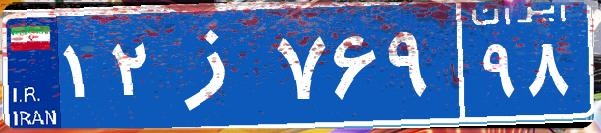1: (57, 26, 110, 107)
2: (110, 28, 158, 105)
6: (330, 28, 385, 110)
7: (273, 28, 330, 110)
8: (525, 38, 570, 115)
9: (385, 28, 445, 110), (475, 38, 525, 113)
ز: (158, 15, 273, 115)
